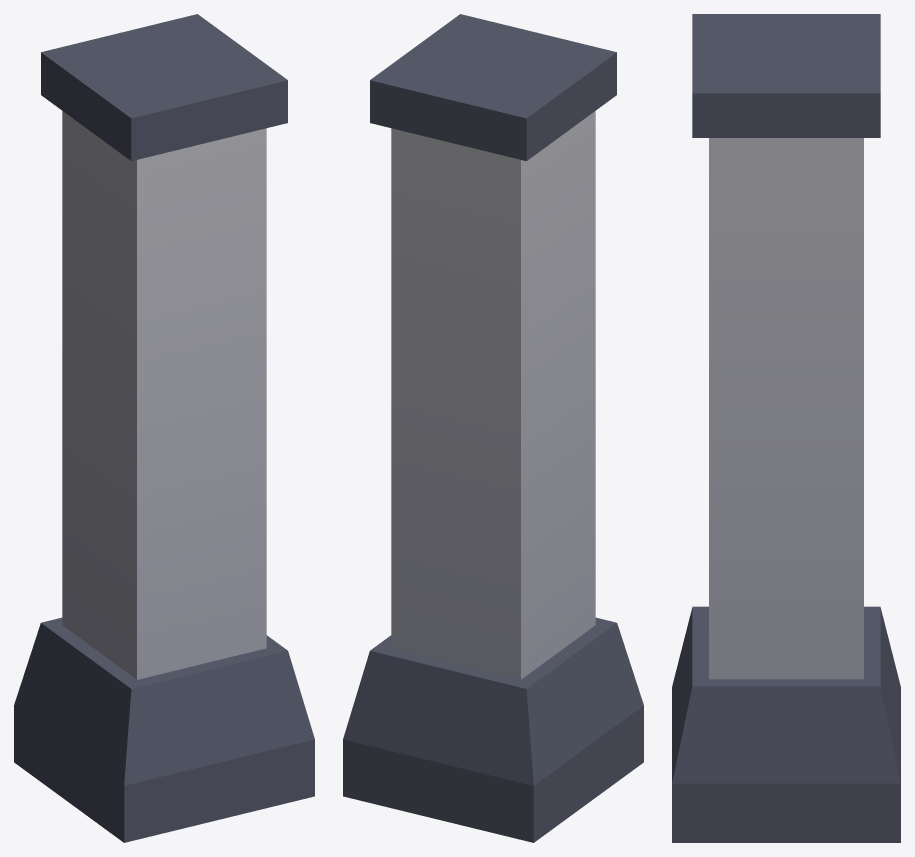
Rendered from bridge-pillar-wide.glb.
3 views of the same model, side by side, from view 1: azimuth 30°, elevation 25°; view 2: azimuth 150°, elevation 25°; view 3: azimuth 270°, elevation 25° (orthographic). The views are drawn at different scales.
Parts seen in each view (by area): view 1: bridge-pillar-wide; view 2: bridge-pillar-wide; view 3: bridge-pillar-wide.
Part boxes in pixels (left/top/right/bottom): bridge-pillar-wide: left=14, top=14, right=314, bottom=842; bridge-pillar-wide: left=343, top=14, right=643, bottom=842; bridge-pillar-wide: left=672, top=14, right=900, bottom=842.
Size of the model in its own units: 0.14 by 0.5 by 0.14.
